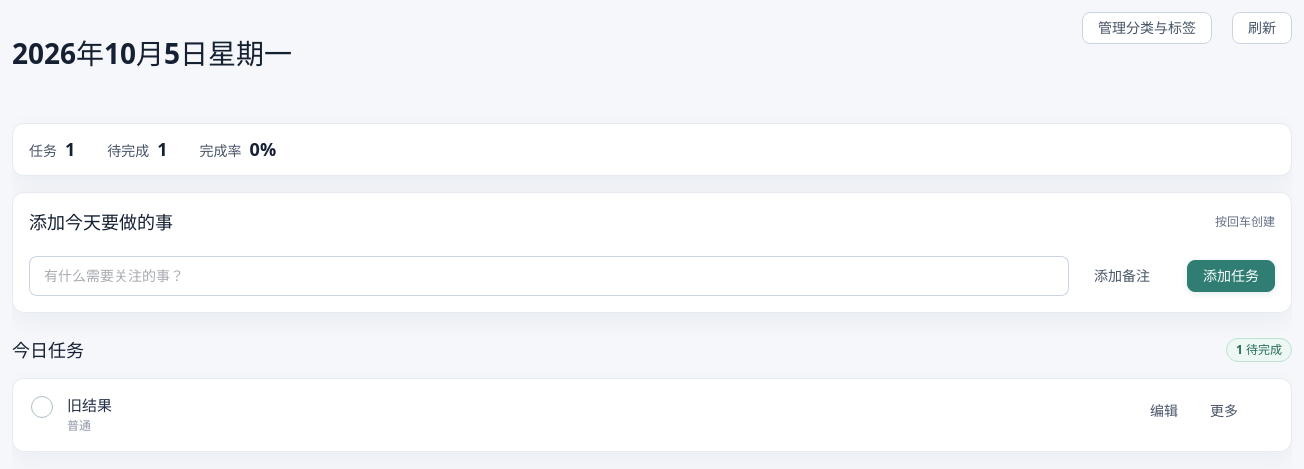
Scenario: Today integration › refreshes after a Quick Reschedule and ignores an older response
What coordinates should you click on to do the following:
click the button "刷新"
I would click on:
 (1262, 28)
Its box is [1232,12,1292,44].
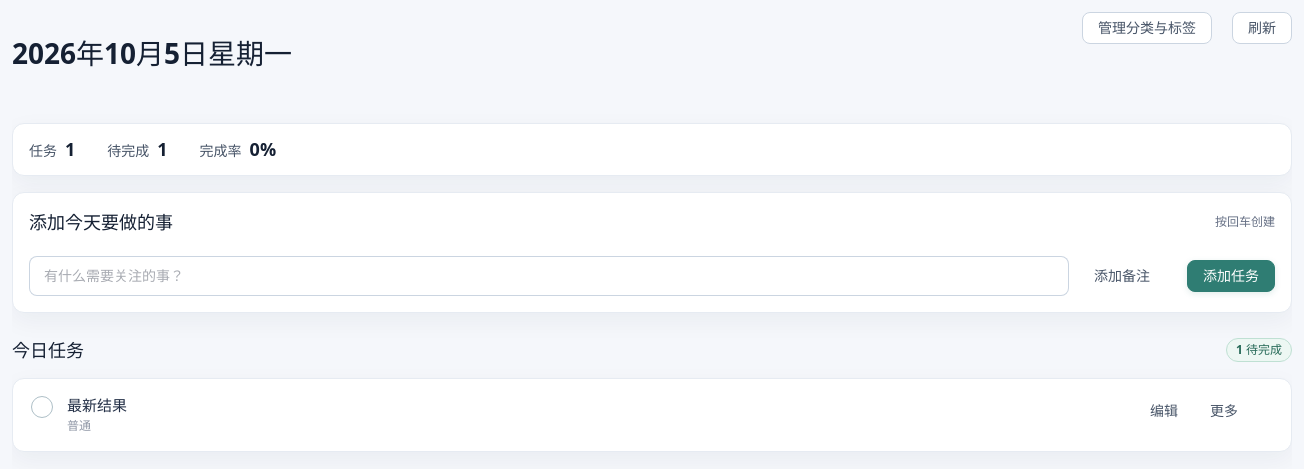
Now the text "最新结果" is shown, box [67,395,127,417]
Now the text "旧结果" is gone
